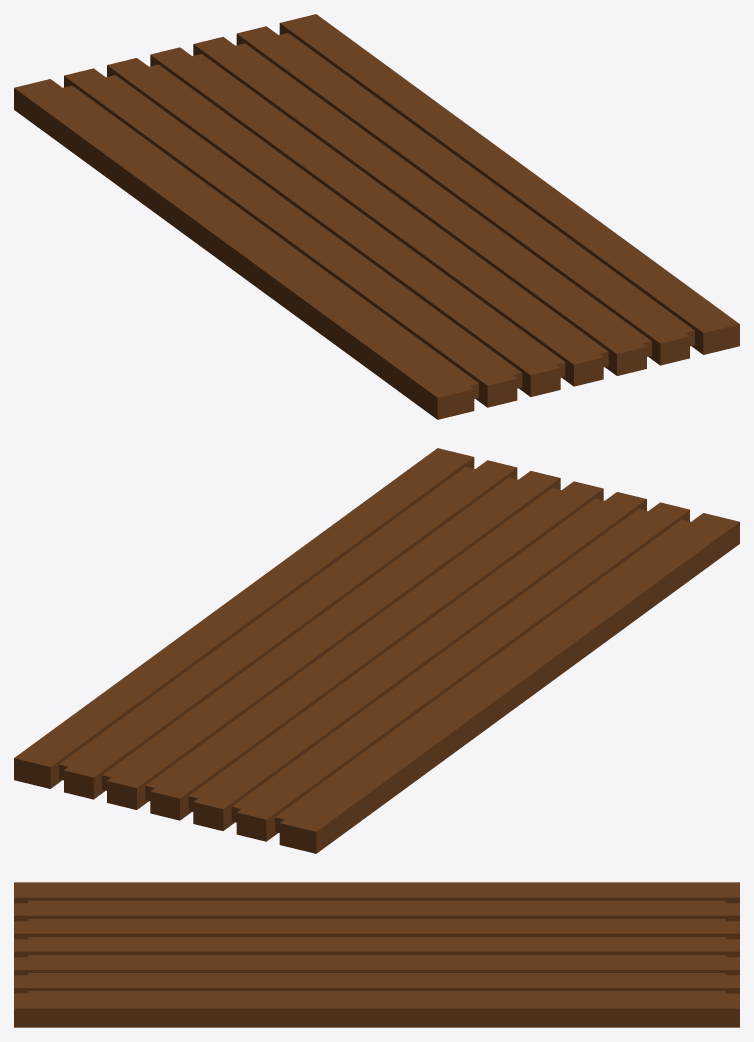
File: muelle1.fbx
3 views of the same model, one above another, from view 1: azimuth 30°, elevation 25°; view 2: azimuth 150°, elevation 25°; view 3: azimuth 270°, elevation 25° (orthographic). The views are drawn at different scales.
Visible parts, largest first — view 1: Cube.016; view 2: Cube.016; view 3: Cube.016.
Part boxes in pixels (x1,y1,x2,y2): Cube.016: [14, 14, 739, 419]; Cube.016: [14, 448, 739, 853]; Cube.016: [14, 882, 739, 1027].
Size of the model in its own units: 2876 by 200 by 6981.
